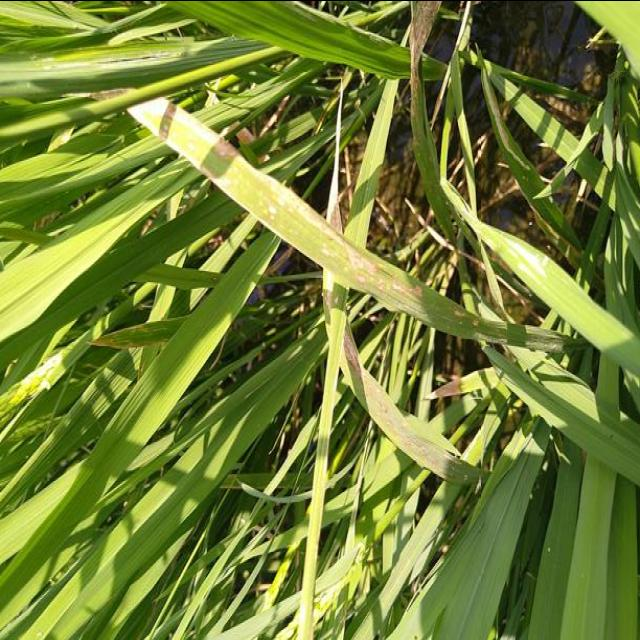Leaf Streak: (129, 96, 577, 351), (340, 339, 479, 480), (411, 0, 470, 245), (466, 211, 557, 310), (326, 78, 344, 232), (93, 319, 184, 349), (426, 370, 484, 399), (323, 269, 334, 324)
